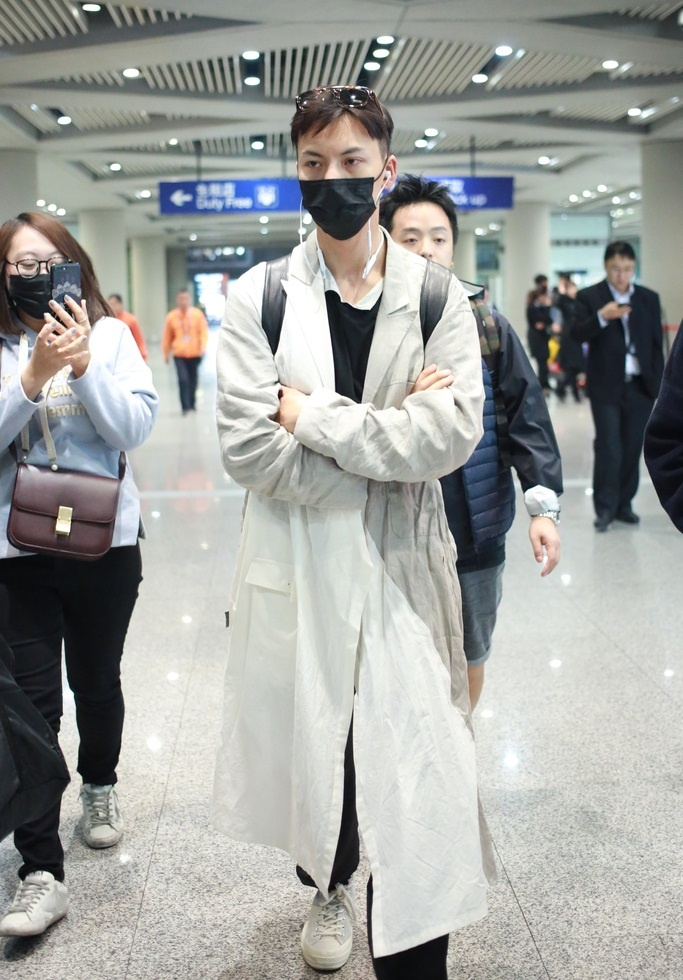Mask: (9, 244, 80, 316)
